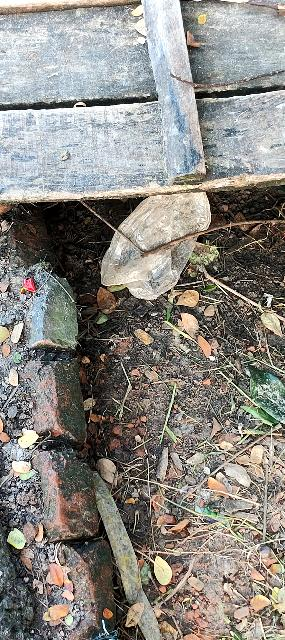polythene: (76, 150, 247, 339)
